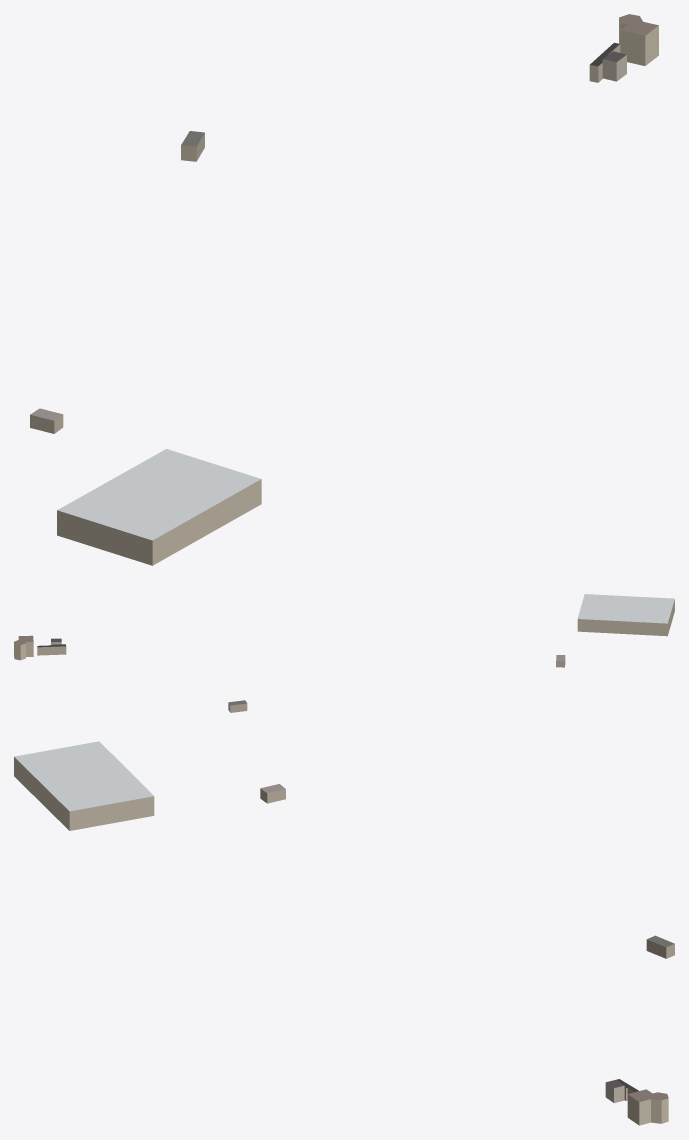
3 views of the same model, one above another, from view 1: azimuth 30°, elevation 25°; view 2: azimuth 150°, elevation 25°; view 3: azimuth 270°, elevation 25° (orthographic). The views are drawn at different scales.
Visible parts, largest first — view 1: tuile; view 2: tuile; view 3: tuile.
Boxes of the visible parts, x1,y1,x2,y2 form: tuile: (30, 14, 658, 565); tuile: (14, 594, 674, 712); tuile: (14, 741, 674, 1125).
Bounding box in the file's own units: 256 × 8.21 × 199.
